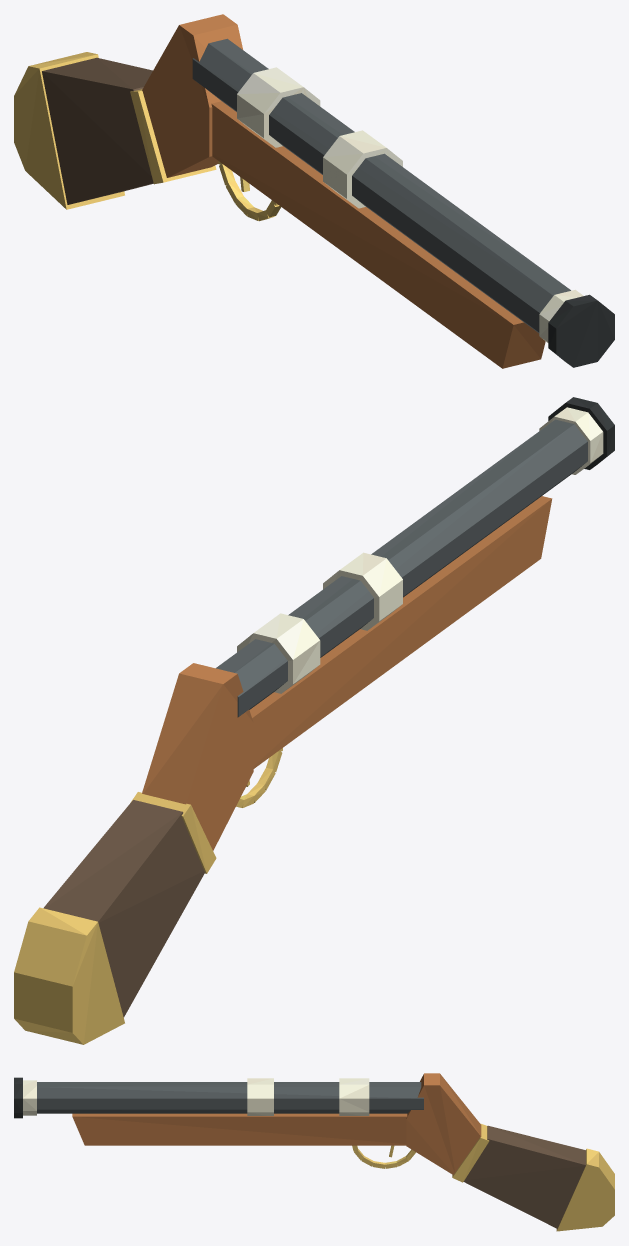
Rendered from pistola_A.fbx.
3 views of the same model, one above another, from view 1: azimuth 30°, elevation 25°; view 2: azimuth 150°, elevation 25°; view 3: azimuth 270°, elevation 25° (orthographic). The views are drawn at different scales.
Parts seen in each view (by area): view 1: pistola_A; view 2: pistola_A; view 3: pistola_A.
Boxes of the visible parts, x1,y1,x2,y2 form: pistola_A: (14,14,614,368); pistola_A: (14,397,614,1044); pistola_A: (14,1073,614,1231).
Size of the model in its own units: 0.0281 by 0.1191 by 0.45.
Materials: 1 (1 with a texture image).
